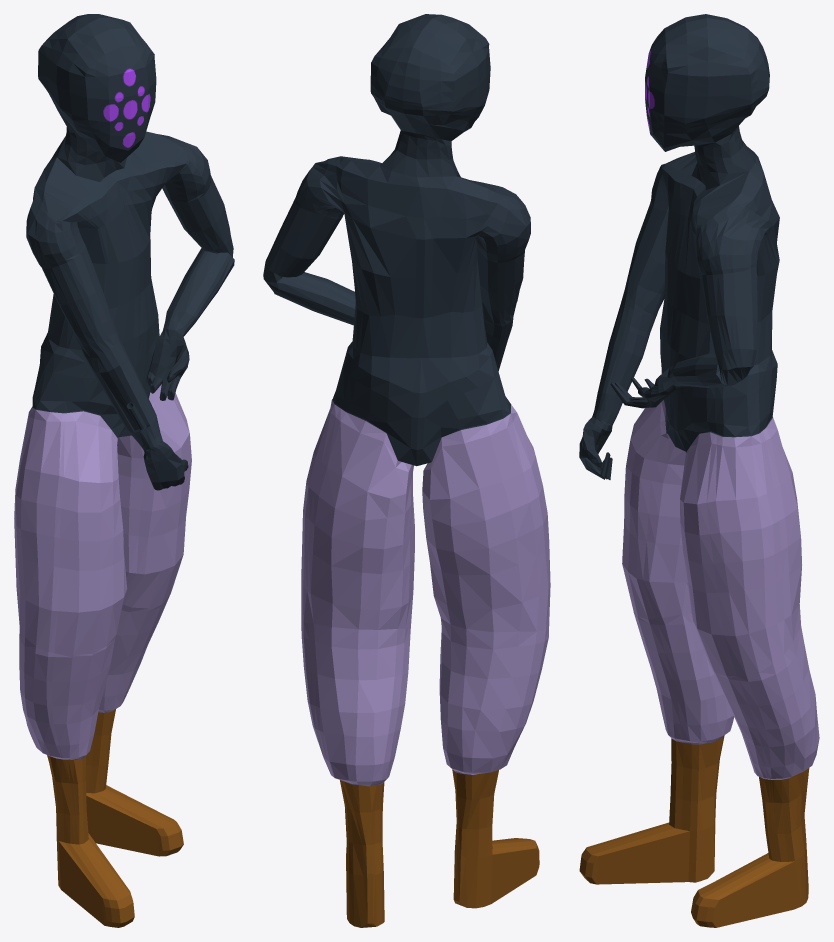
Rendered from Oracle_WF_000028.obj.
3 views of the same model, side by side, from view 1: azimuth 30°, elevation 25°; view 2: azimuth 150°, elevation 25°; view 3: azimuth 270°, elevation 25° (orthographic). The views are drawn at different scales.
Parts seen in each view (by area): view 1: Cube; view 2: Cube; view 3: Cube.
Part boxes in pixels (x1,y1,x2,y2): Cube: (14, 14, 234, 927); Cube: (263, 14, 550, 927); Cube: (579, 14, 819, 927).
Size of the model in its own units: 1.15 by 3.94 by 0.9766.
